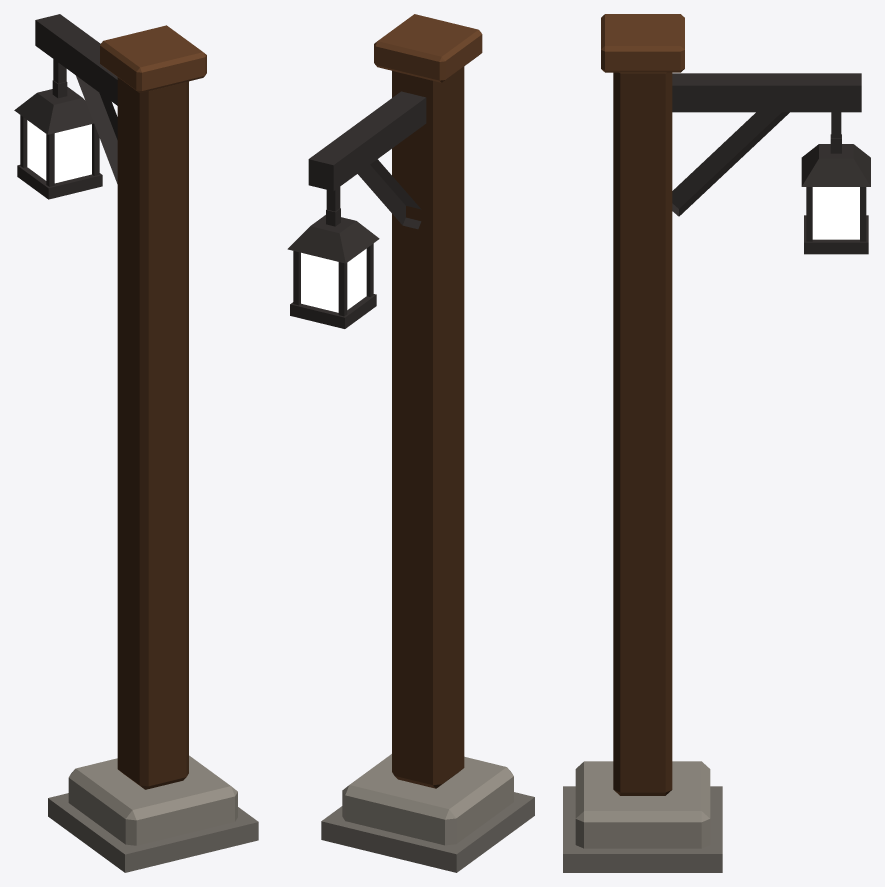
The model's file is LampPost.glb.
3 views of the same model, side by side, from view 1: azimuth 30°, elevation 25°; view 2: azimuth 150°, elevation 25°; view 3: azimuth 270°, elevation 25° (orthographic). The views are drawn at different scales.
Parts seen in each view (by area): view 1: Body, LampGlow; view 2: Body, LampGlow; view 3: Body, LampGlow.
Boxes of the visible parts, x1,y1,x2,y2 form: Body: (14,14,258,872); LampGlow: (27,120,91,183); Body: (287,14,534,872); LampGlow: (301,248,366,312); Body: (563,14,870,872); LampGlow: (812,187,859,239).
Size of what is drawn, in the model's own units: 1.9 by 10.62 by 3.66.
